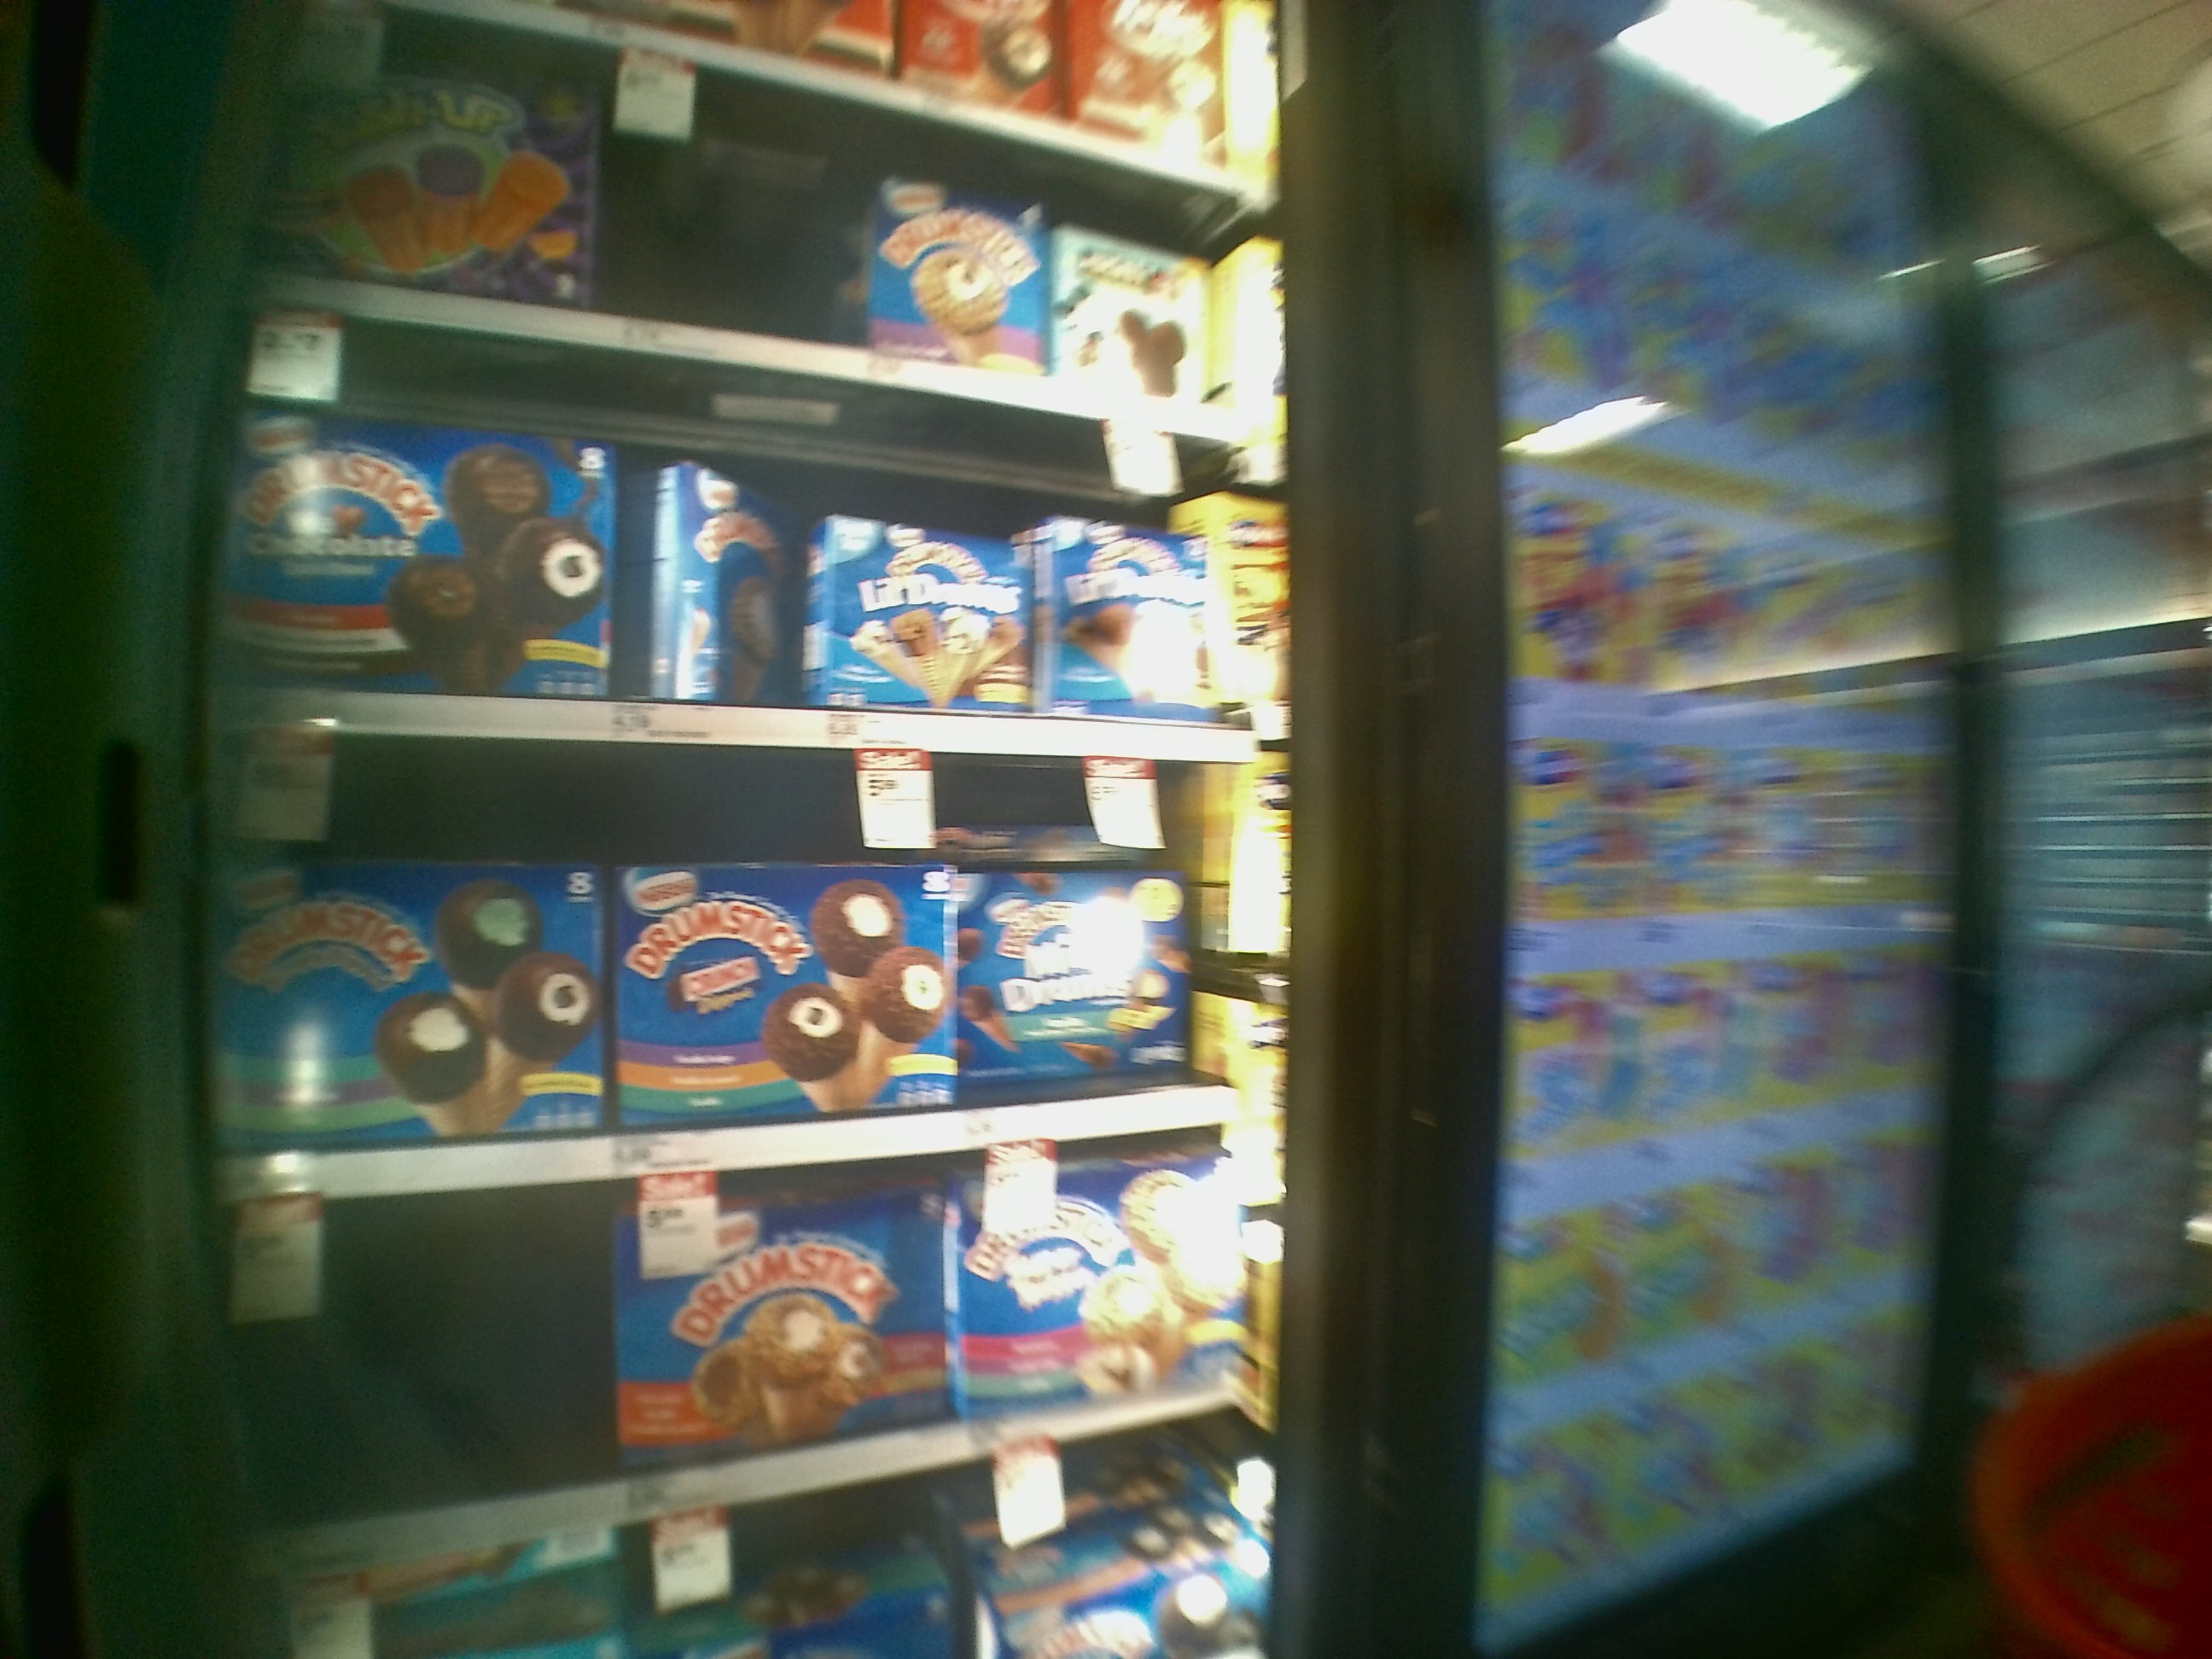shelf: (221, 734, 1254, 1201), (240, 312, 1270, 762), (223, 1122, 1254, 1567)
